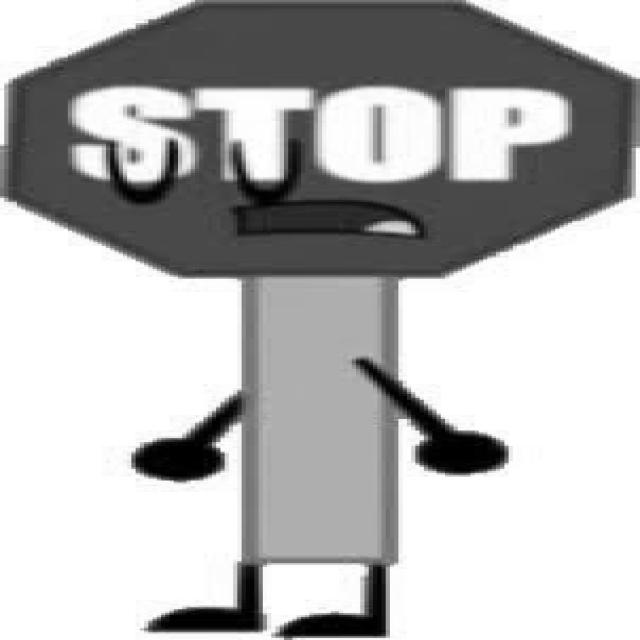stop sign: (9, 3, 640, 277)
